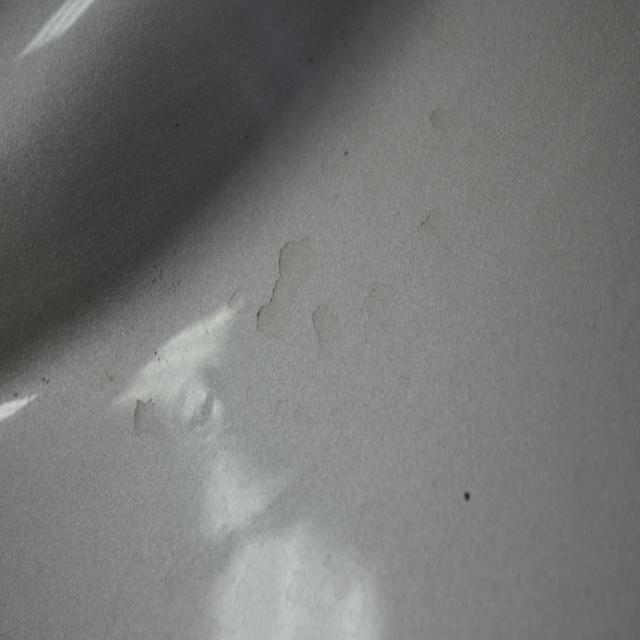dirt: (40, 368, 53, 388), (151, 346, 164, 364), (307, 52, 317, 67), (342, 145, 350, 161), (173, 116, 182, 130), (463, 487, 471, 501), (149, 260, 159, 271), (11, 390, 20, 400), (174, 277, 182, 288), (149, 276, 159, 283)
water marks: (255, 234, 312, 338), (309, 290, 347, 362), (339, 15, 378, 77), (360, 274, 396, 325), (413, 200, 449, 245), (428, 99, 458, 143), (225, 278, 255, 322), (132, 390, 158, 440)
